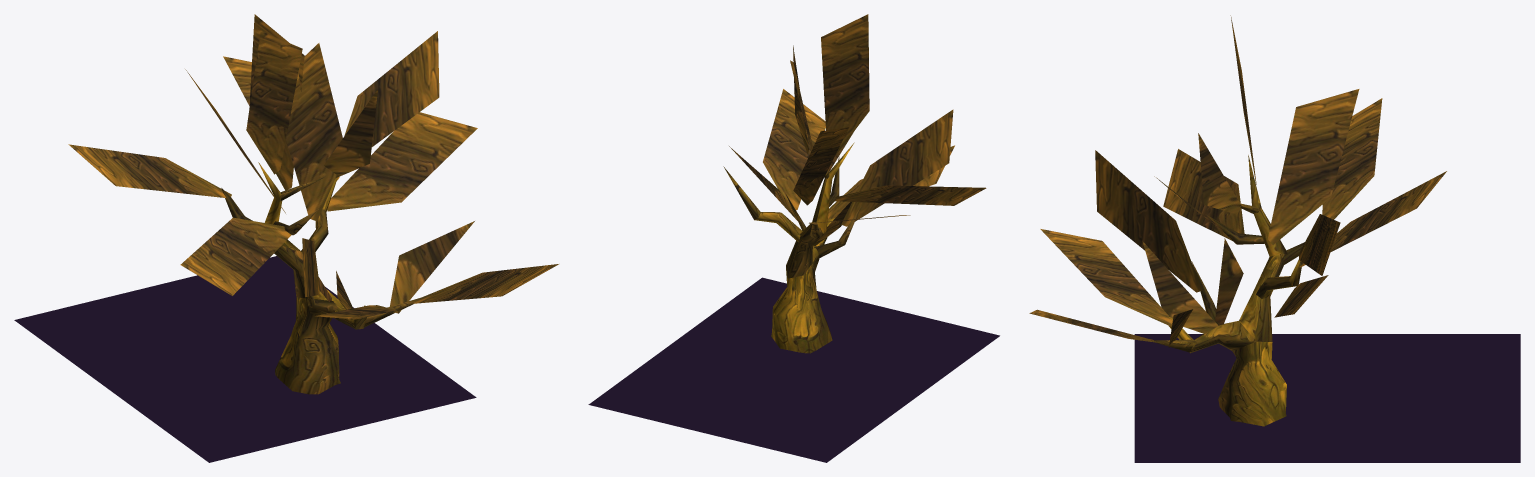
Rendered from Map04Tree.FBX.
3 views of the same model, side by side, from view 1: azimuth 30°, elevation 25°; view 2: azimuth 150°, elevation 25°; view 3: azimuth 270°, elevation 25° (orthographic). The views are drawn at different scales.
Parts seen in each view (by area): view 1: Map04Tree_Shadows, Map04Tree_02, Map04Tree_01; view 2: Map04Tree_Shadows, Map04Tree_02, Map04Tree_01; view 3: Map04Tree_Shadows, Map04Tree_02, Map04Tree_01.
Part boxes in pixels (x1,y1,x2,y2): Map04Tree_Shadows: [14, 256, 476, 462]; Map04Tree_02: [68, 14, 558, 319]; Map04Tree_01: [221, 162, 435, 394]; Map04Tree_Shadows: [588, 277, 999, 462]; Map04Tree_02: [729, 14, 986, 245]; Map04Tree_01: [723, 139, 861, 353]; Map04Tree_Shadows: [1134, 334, 1520, 462]; Map04Tree_02: [1029, 15, 1446, 347]; Map04Tree_01: [1150, 155, 1335, 426].
Bounding box in the file's own units: 574 × 585 × 677.
